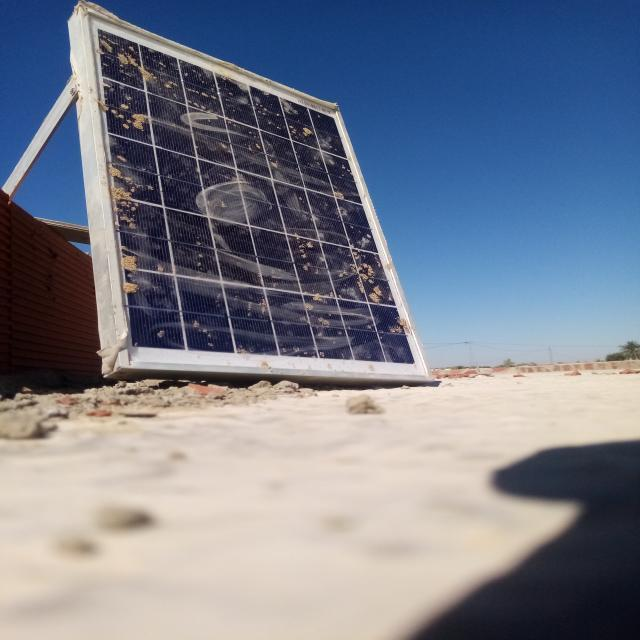faulty: (86, 6, 427, 377)
